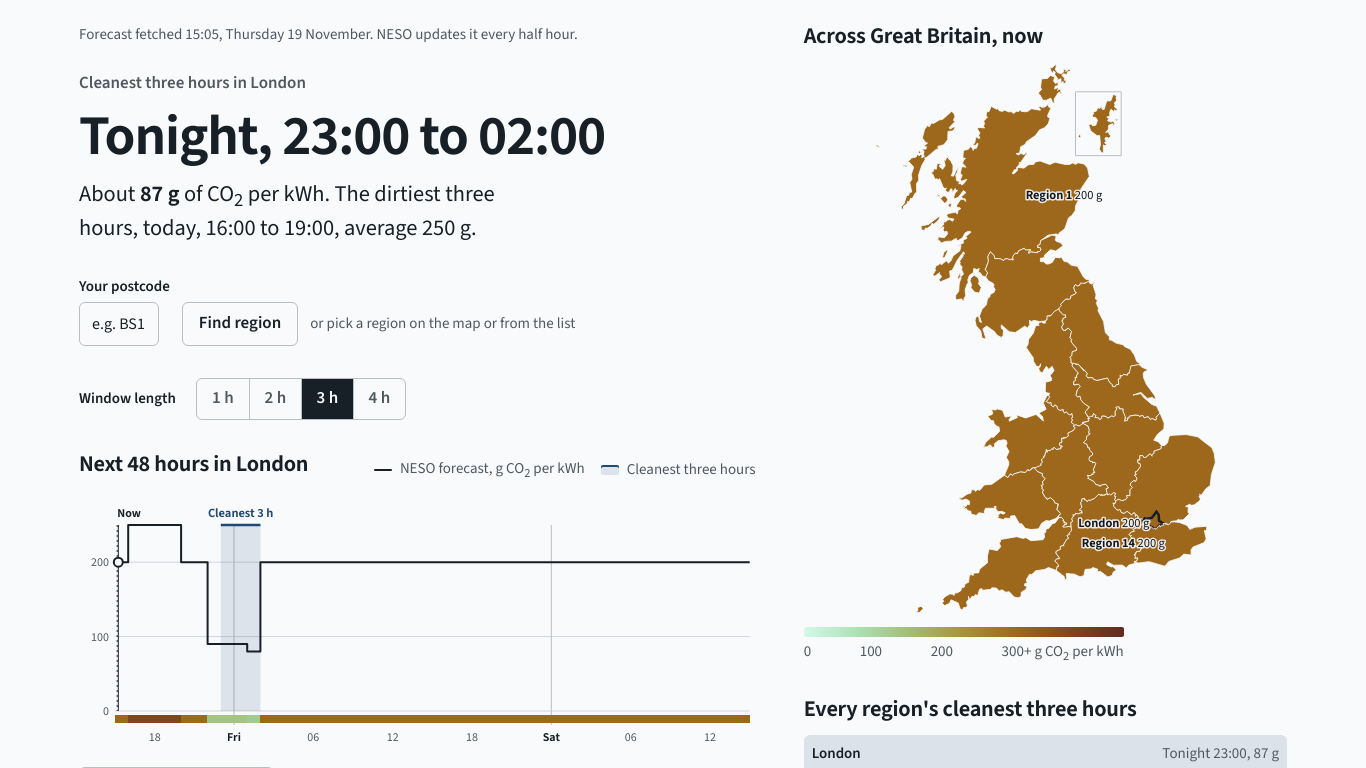
Scenario: moves the answer and the band when the duration changes, and keeps it in the address
Click the radio button labelled "1 h". click: (223, 398)
box: [212,386,234,410]
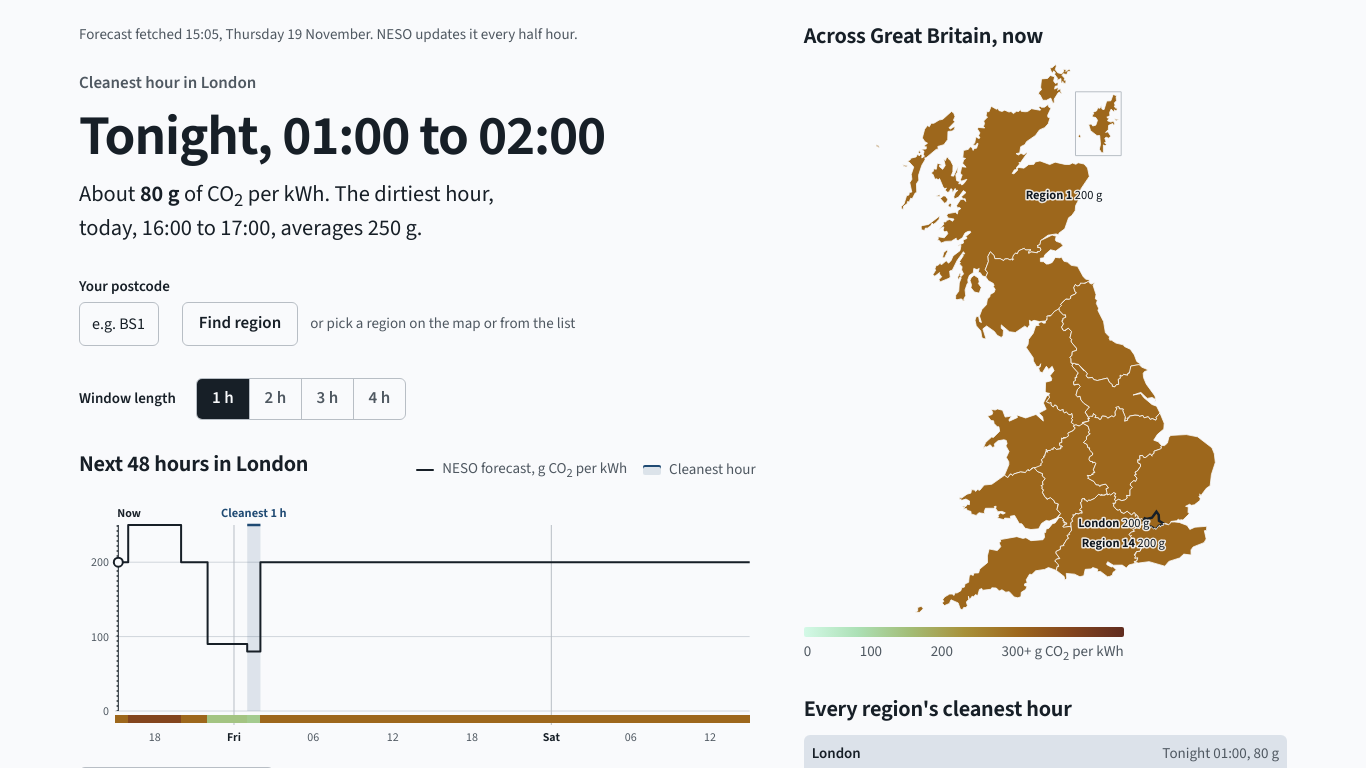
Result: the heading "Tonight, 01:00 to 02:00" is shown at [79,97,605,176]
